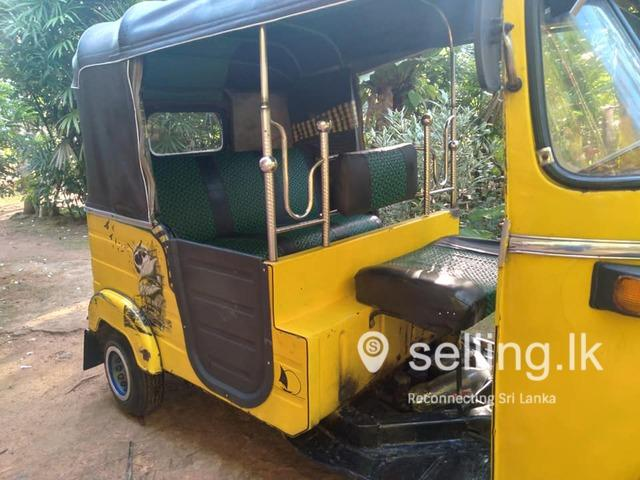threewheel: (71, 1, 640, 480)
